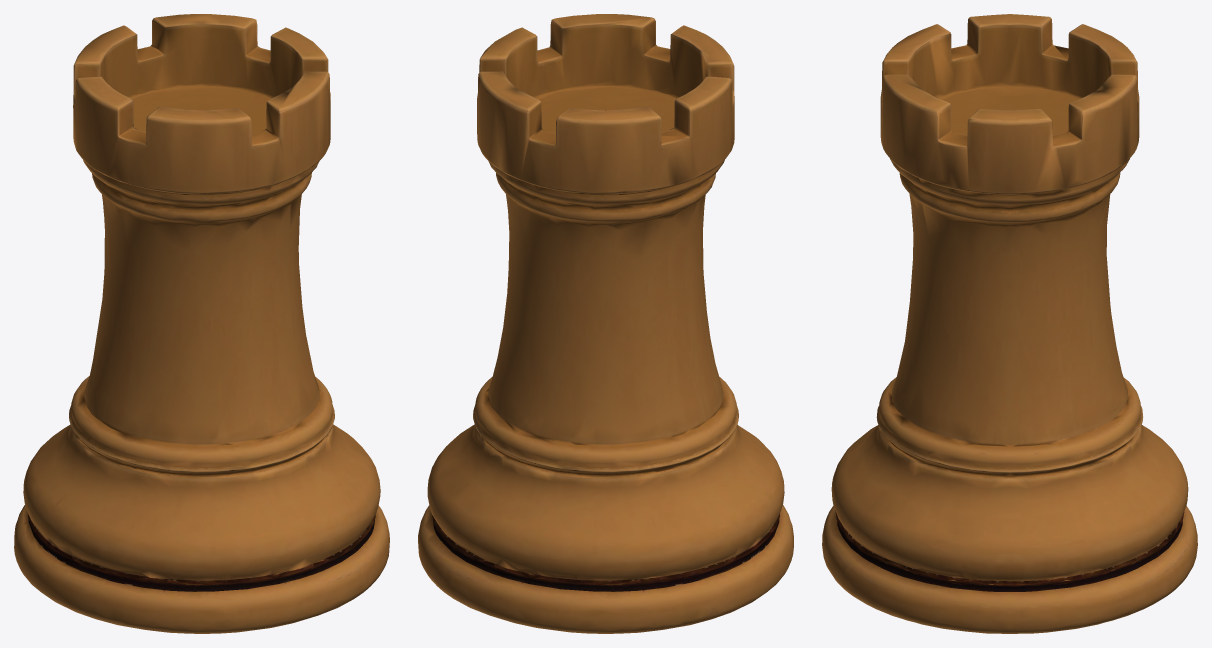
Rendered from rook_light.glb.
3 views of the same model, side by side, from view 1: azimuth 30°, elevation 25°; view 2: azimuth 150°, elevation 25°; view 3: azimuth 270°, elevation 25° (orthographic).
Visible parts, largest first — view 1: geometry_0; view 2: geometry_0; view 3: geometry_0.
Part boxes in pixels (bbox=[...]): geometry_0: bbox=[14, 14, 389, 633]; geometry_0: bbox=[418, 14, 793, 633]; geometry_0: bbox=[822, 14, 1197, 633].
Size of the model in its own units: 0.5641 by 0.82 by 0.5642.
1 material, 1 textured.
